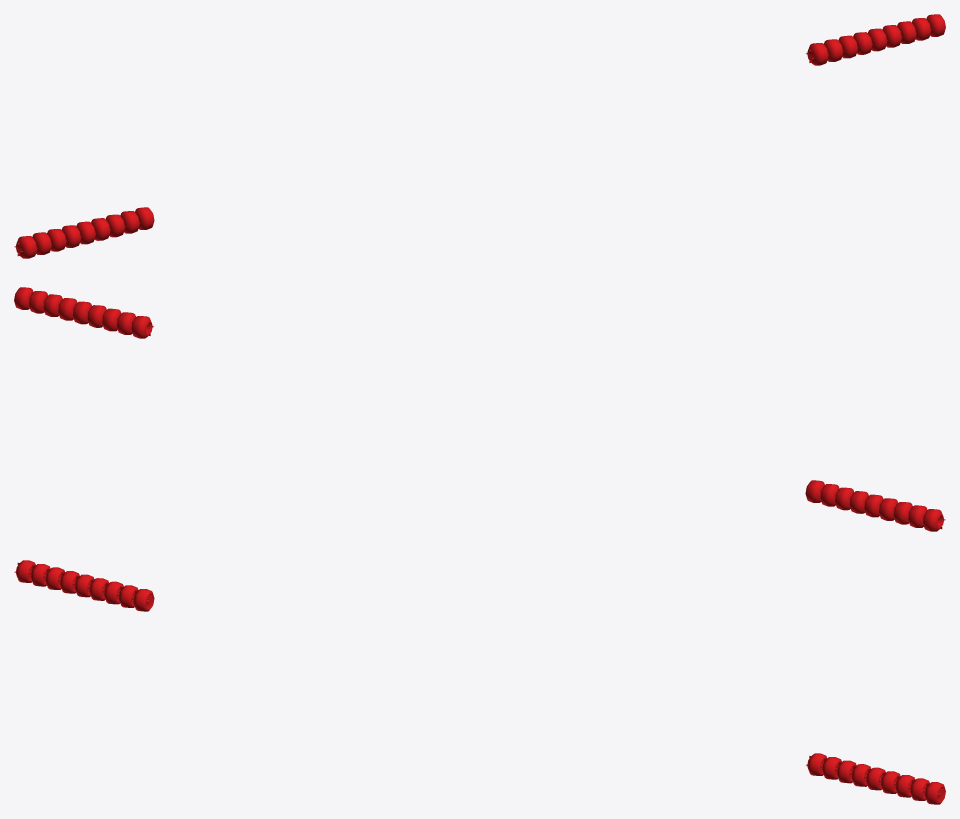
Rendered from LaneRope_75ft_LOD1_Tricolor_Cycle_sec5.obj.
3 views of the same model, one above another, from view 1: azimuth 30°, elevation 25°; view 2: azimuth 150°, elevation 25°; view 3: azimuth 330°, elevation 25° (orthographic).
Parts seen in each view (by area): view 1: section_06_sec5, section_12_sec5; view 2: section_06_sec5, section_12_sec5; view 3: section_06_sec5, section_12_sec5.
Boxes of the visible parts, left/top/right/bottom form: section_06_sec5: left=14, top=207, right=154, bottom=258; section_12_sec5: left=806, top=14, right=945, bottom=65; section_06_sec5: left=805, top=480, right=945, bottom=531; section_12_sec5: left=14, top=287, right=153, bottom=338; section_06_sec5: left=14, top=560, right=154, bottom=611; section_12_sec5: left=806, top=753, right=945, bottom=804.
Size of the model in its own units: 5.33 by 0.1206 by 0.1206.
